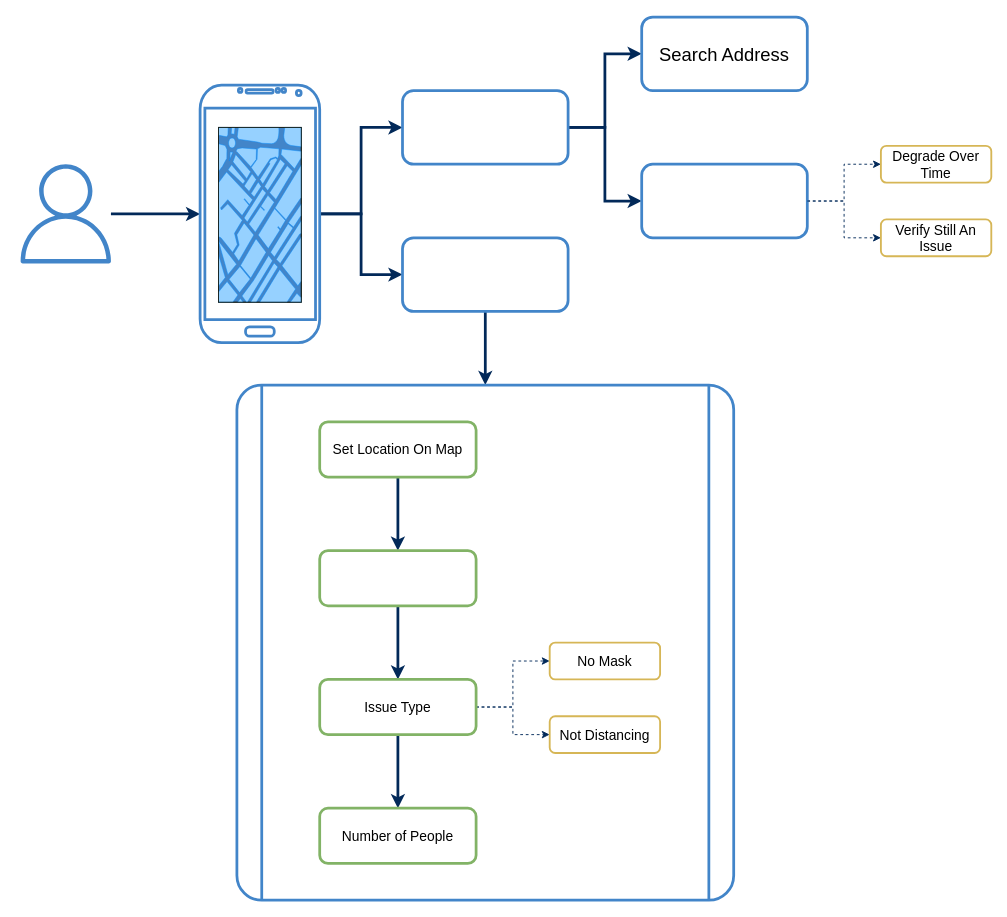
The diagram is 1007 pixels wide and 917 high, and some of its shapes have lost their labels. The shapes that lost their labels are listed below. From the top down, each one's centre as x and y in pixels, then its label:
At (485,127): "View Map".
At (724,200): "List".
At (485,274): "Report".
At (397,578): "Set Date/Time of Incident".
